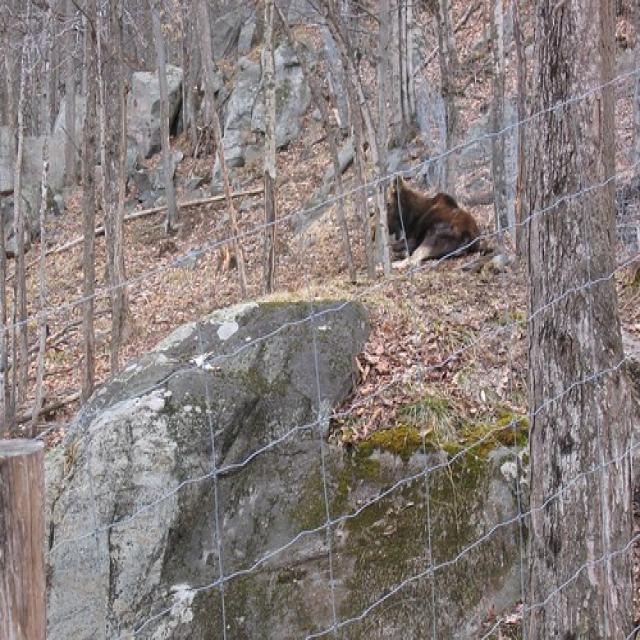boar: (354, 155, 493, 286)
